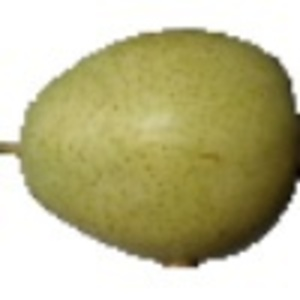pera: (1, 26, 300, 272)
